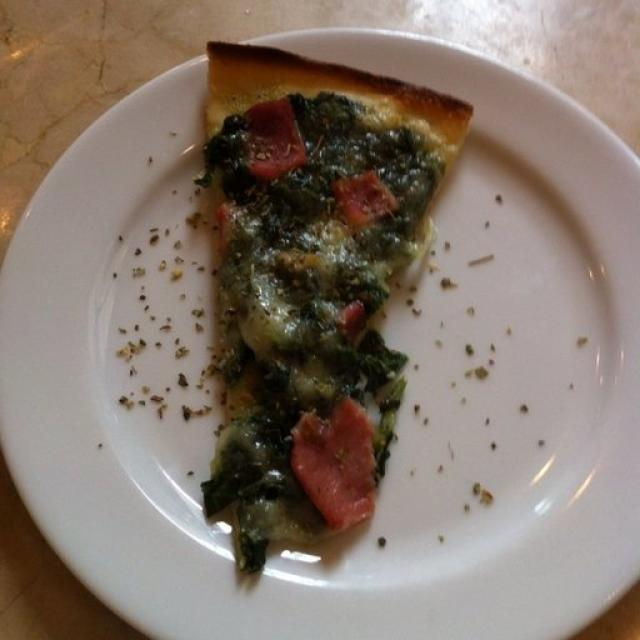Pepperoni: (299, 398, 374, 526), (235, 99, 307, 170), (342, 171, 394, 222)
Pizza: (200, 48, 472, 582)
